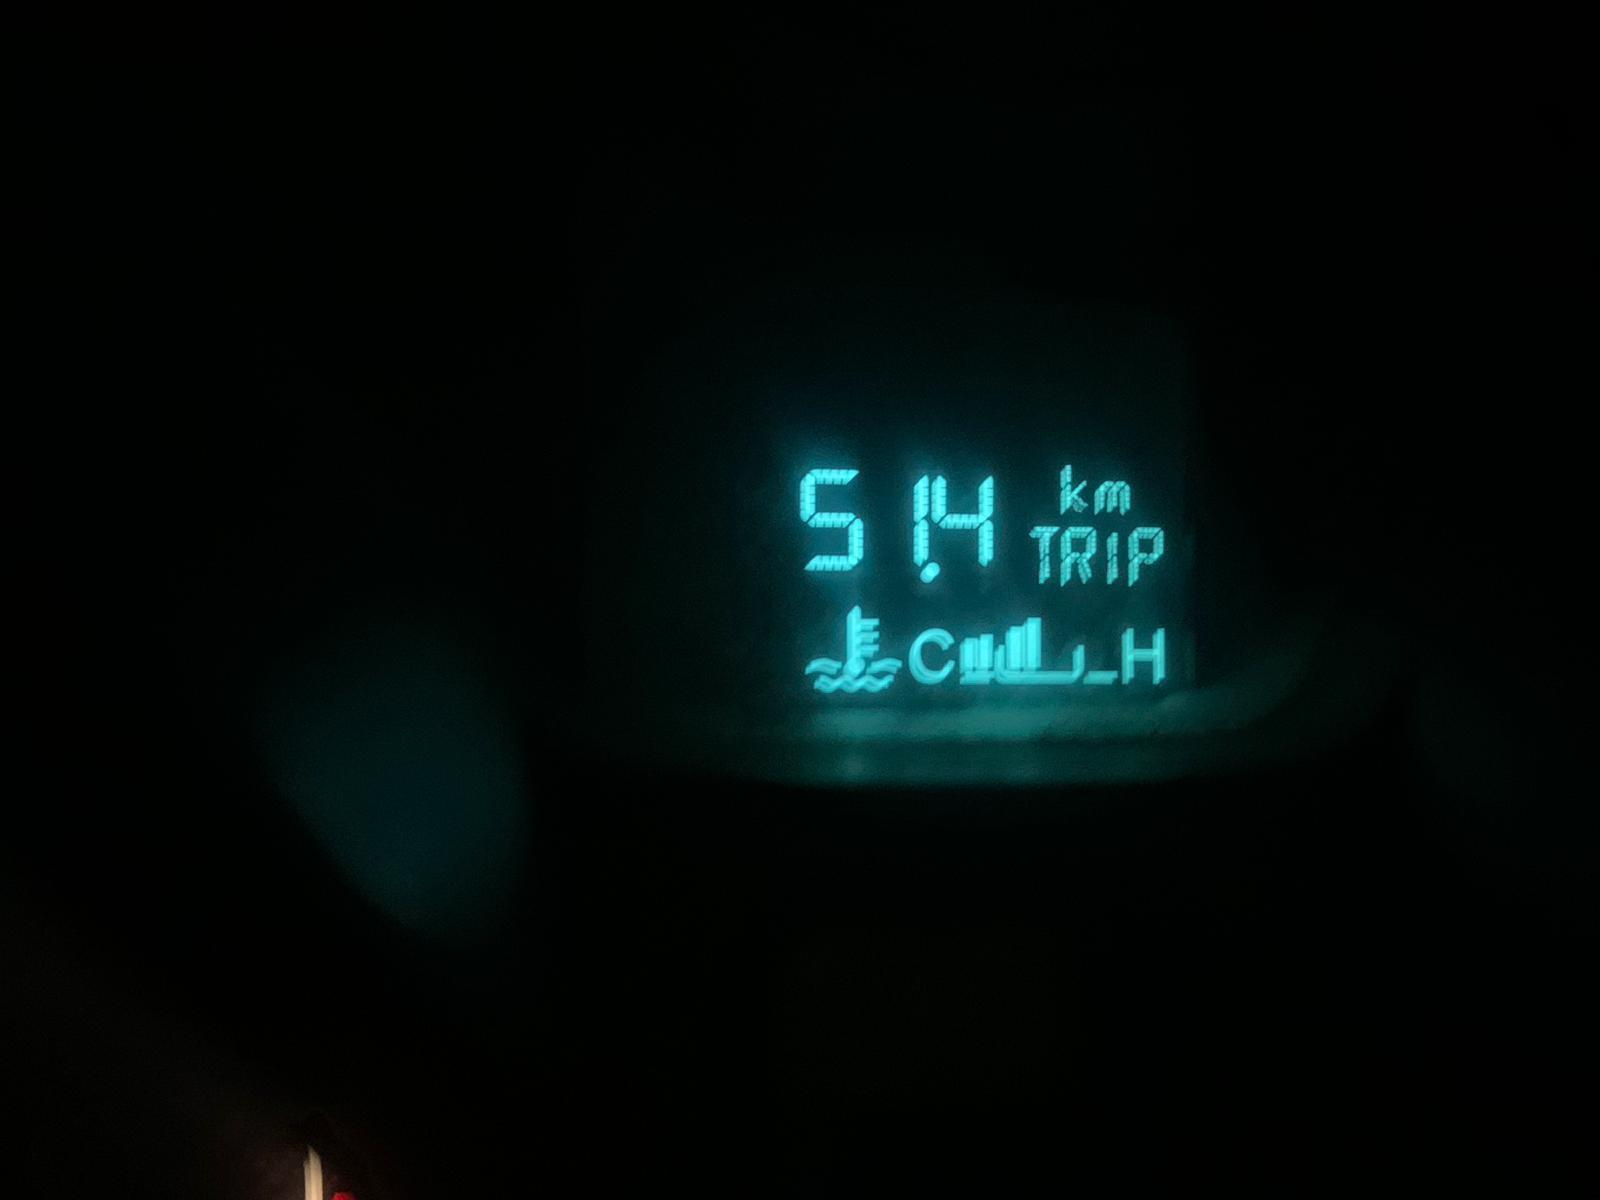,: (922, 562, 944, 582)
1: (910, 470, 929, 565)
4: (931, 469, 1007, 567)
5: (794, 454, 872, 581)
X: (1119, 618, 1167, 688), (910, 624, 957, 689), (1128, 523, 1168, 589), (1061, 524, 1101, 587), (1029, 523, 1060, 587), (1058, 463, 1090, 516), (1095, 478, 1130, 514), (1105, 528, 1123, 586)
odometer: (742, 420, 1225, 740)
